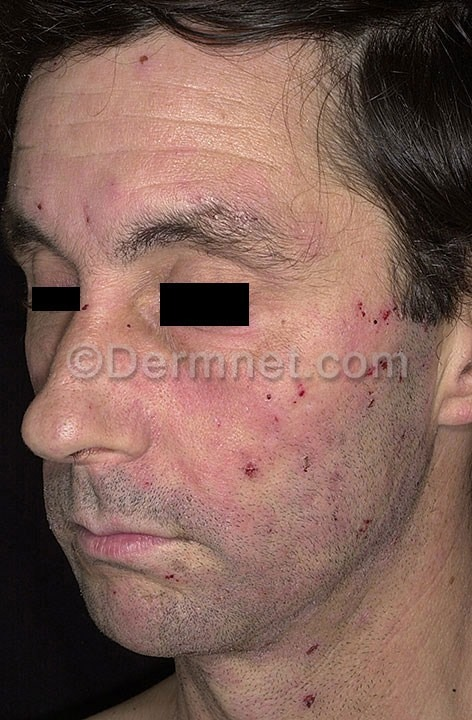Eczema: (164, 341, 411, 493), (326, 295, 436, 334), (132, 50, 161, 84), (292, 689, 324, 711), (26, 195, 57, 215), (304, 638, 329, 658)
